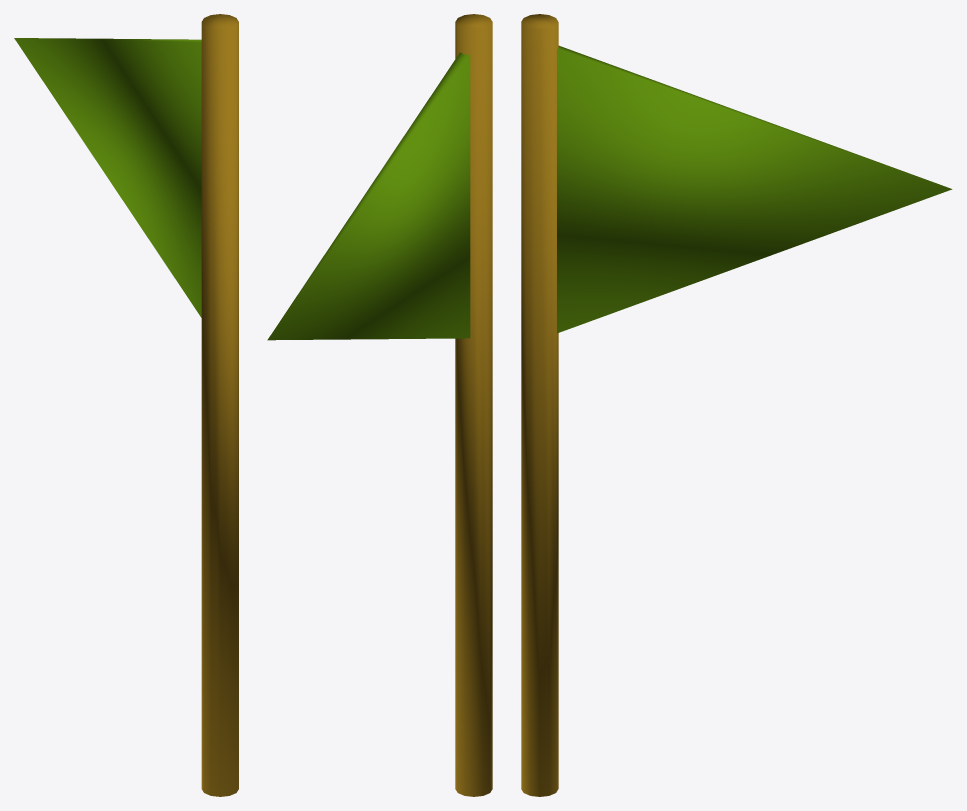
File: bandeira.fbx
3 views of the same model, side by side, from view 1: azimuth 30°, elevation 25°; view 2: azimuth 150°, elevation 25°; view 3: azimuth 270°, elevation 25° (orthographic).
Visible parts, largest first — view 1: Plane; view 2: Plane; view 3: Plane.
Part boxes in pixels (x1,y1,x2,y2): Plane: (14,14,238,796); Plane: (267,14,492,796); Plane: (521,14,952,796).
Size of the model in its own units: 22.93 by 520 by 265.
